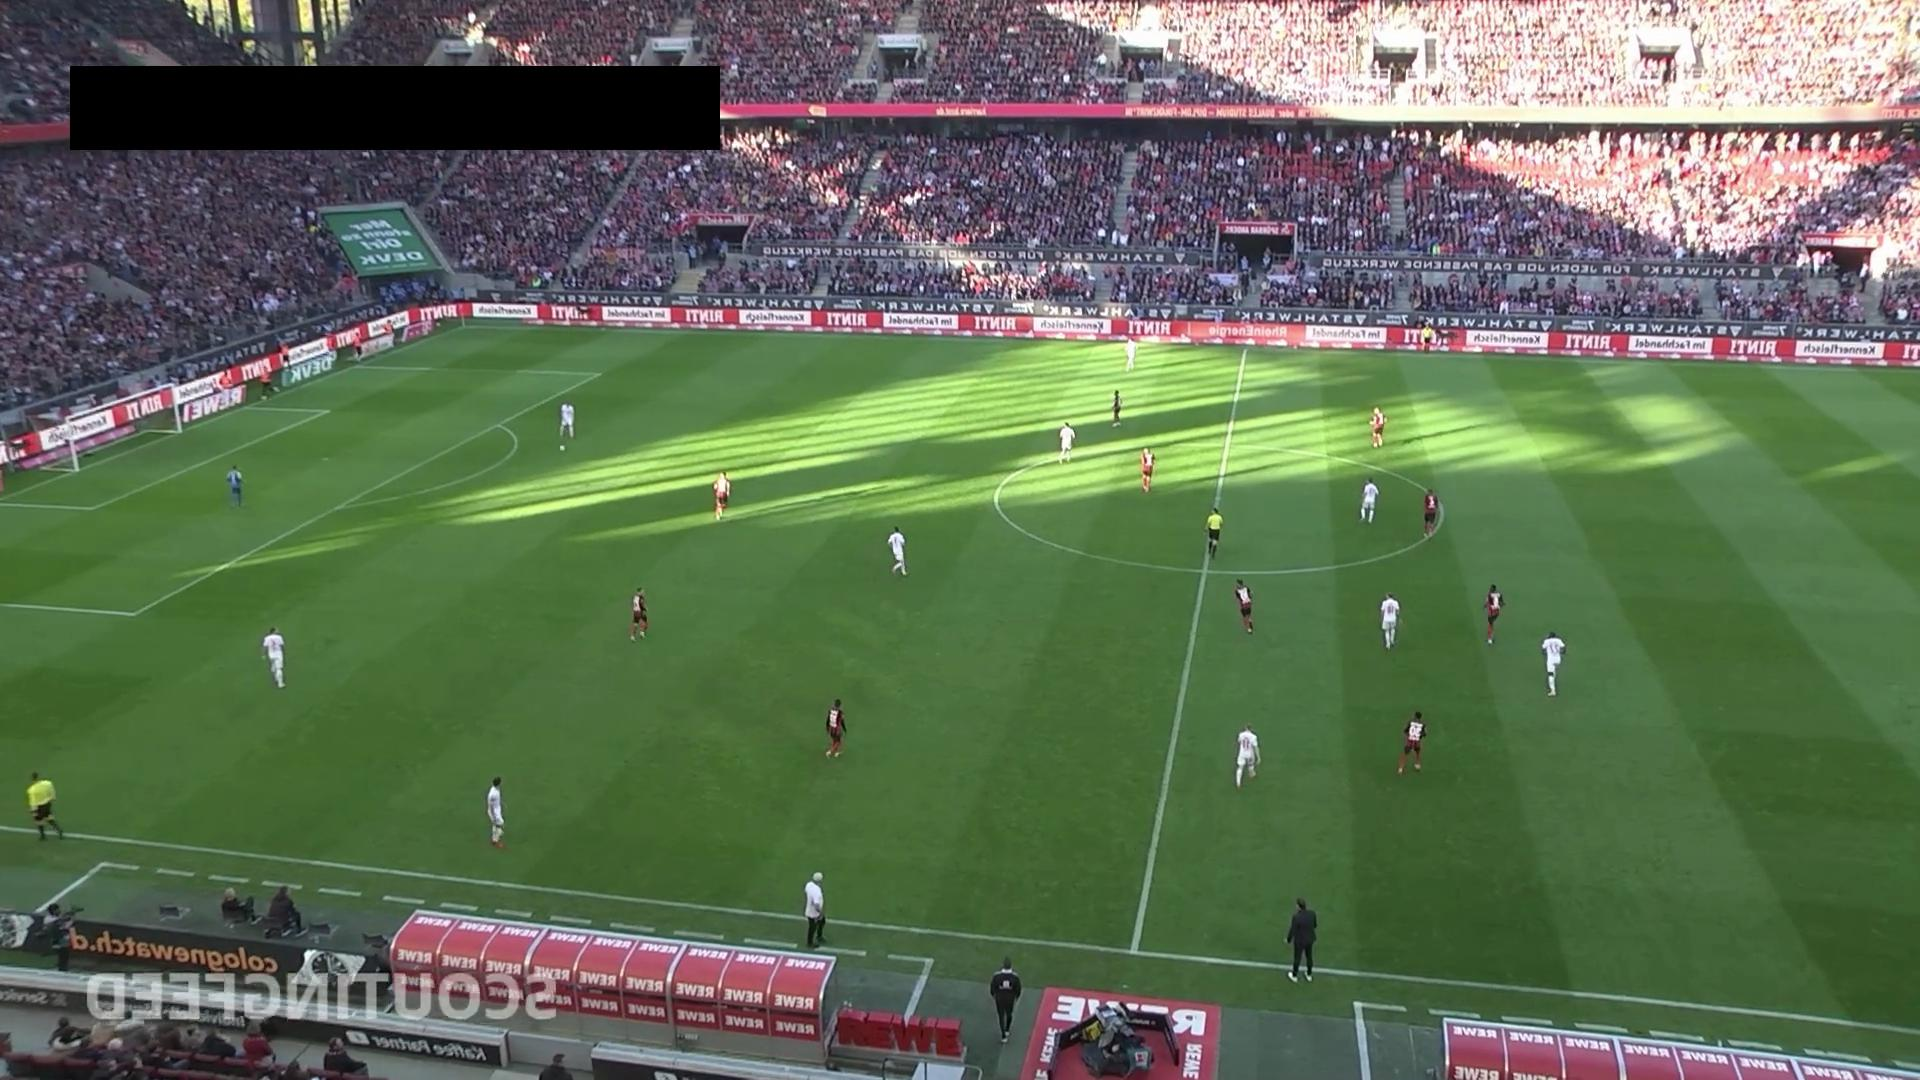ball: (558, 444, 567, 452)
goalkeeper: (225, 463, 244, 508)
player: (1396, 709, 1427, 775), (1234, 722, 1261, 789), (1541, 629, 1566, 697), (261, 625, 285, 689), (487, 775, 506, 848), (825, 698, 847, 758), (1379, 591, 1401, 650), (1485, 583, 1505, 645), (1234, 578, 1254, 634), (629, 587, 649, 642), (887, 525, 908, 576), (712, 471, 731, 521), (1360, 478, 1380, 524), (1423, 489, 1439, 537), (1058, 421, 1076, 463), (1140, 447, 1156, 493), (1369, 406, 1386, 448), (559, 401, 575, 440), (1110, 389, 1122, 429), (1124, 337, 1137, 371)
referee: (25, 770, 64, 841), (1205, 505, 1223, 558), (1422, 323, 1433, 354)
